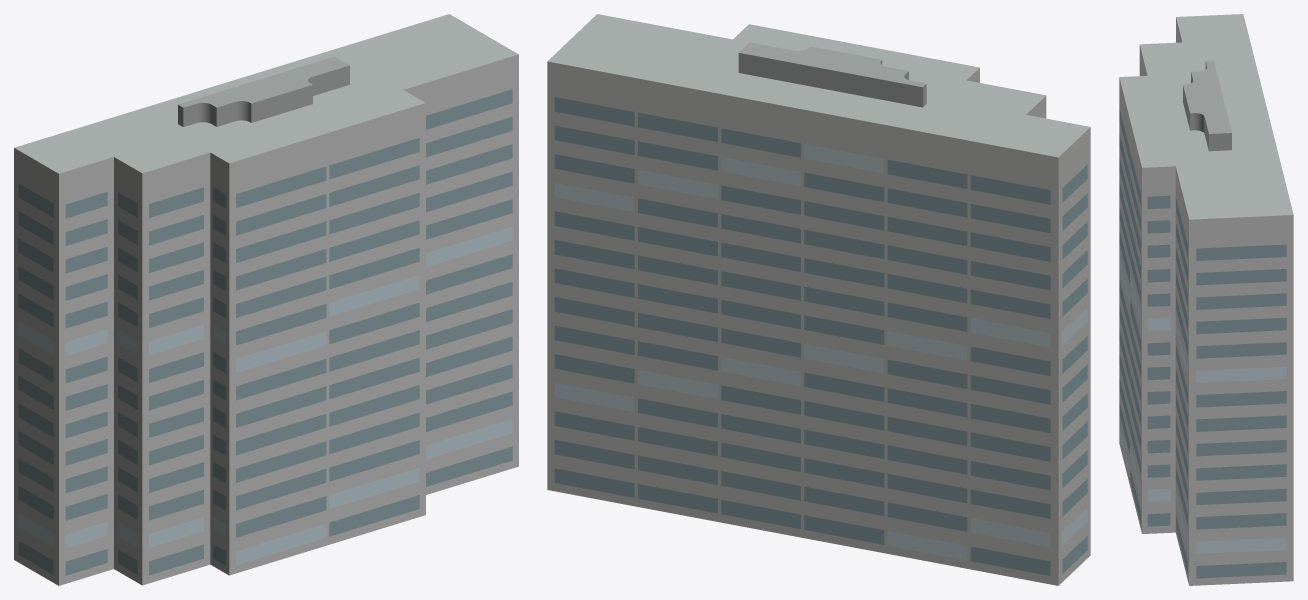
Rendered from apt-a10027614.glb.
3 views of the same model, side by side, from view 1: azimuth 30°, elevation 25°; view 2: azimuth 150°, elevation 25°; view 3: azimuth 270°, elevation 25° (orthographic). The views are drawn at different scales.
Parts seen in each view (by area): view 1: apt-a10027614; view 2: apt-a10027614; view 3: apt-a10027614.
Boxes of the visible parts, box(x1,y1,x2,y2) form: apt-a10027614: box(14, 14, 518, 585); apt-a10027614: box(547, 14, 1090, 585); apt-a10027614: box(1119, 14, 1293, 585).
Bounding box in the file's own units: 56.35 × 49 × 20.18.
